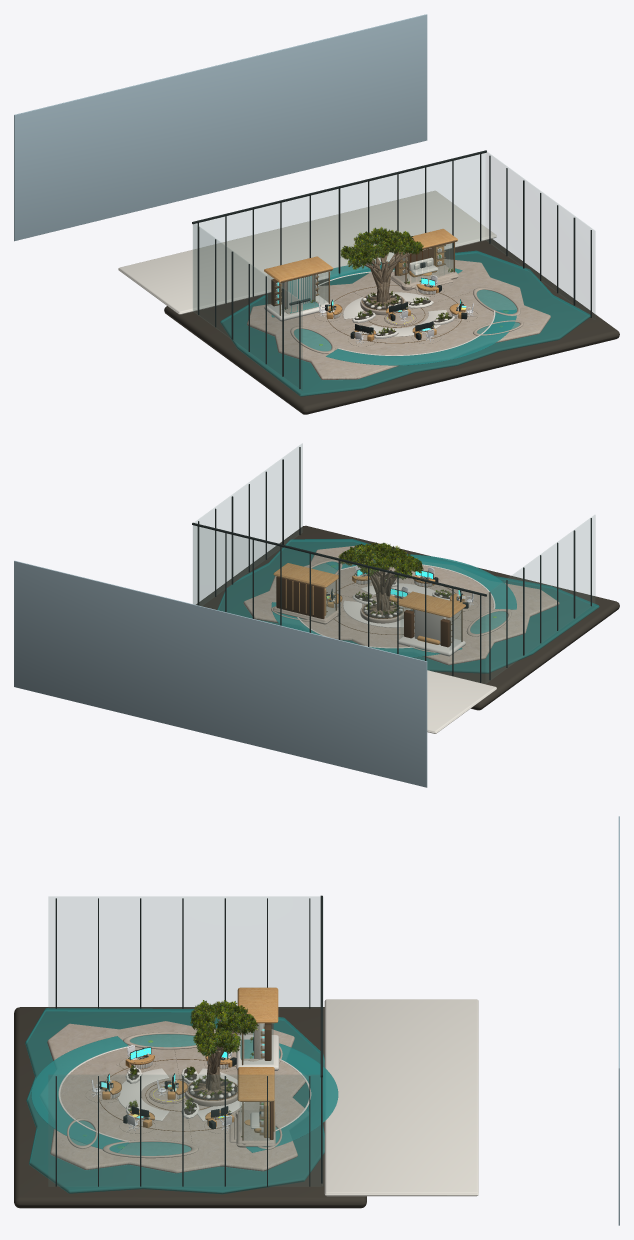
The model's file is garden-office-v9.glb.
3 renders of one model, top to bottom at view 1: azimuth 30°, elevation 25°; view 2: azimuth 150°, elevation 25°; view 3: azimuth 270°, elevation 25°, orthographic. The views are drawn at different scales.
Parts seen in each view (by area): view 1: V9 temporary urban horizon, RuntimeBatch_Low_iron_architectural_glass, RuntimeBatch_Limestone_joint, RuntimeBatch_V8_honed_limestone, RuntimeBatch_Limestone_warm, RuntimeBatch_Shallow_turquoise_water, RuntimeBatch_Graphite, RuntimeBatch_Ficus_cluster_atlas, RuntimeBatch_Quarter_sawn_oak, RuntimeBatch_Ivory_fluted_stone, RuntimeBatch_Champagne_bronze, RuntimeBatch_Old_ficus_bark (+1 smaller); view 2: V9 temporary urban horizon, RuntimeBatch_Low_iron_architectural_glass, RuntimeBatch_Limestone_joint, RuntimeBatch_Limestone_warm, RuntimeBatch_Shallow_turquoise_water, RuntimeBatch_Graphite, RuntimeBatch_V8_honed_limestone, RuntimeBatch_Quarter_sawn_oak, RuntimeBatch_Dark_oak, RuntimeBatch_Ficus_cluster_atlas, RuntimeBatch_Ivory_fluted_stone, RuntimeBatch_Old_ficus_bark; view 3: RuntimeBatch_Low_iron_architectural_glass, RuntimeBatch_V8_honed_limestone, RuntimeBatch_Limestone_joint, RuntimeBatch_Limestone_warm, RuntimeBatch_Shallow_turquoise_water, RuntimeBatch_Graphite, RuntimeBatch_Quarter_sawn_oak, RuntimeBatch_Ficus_cluster_atlas, RuntimeBatch_Champagne_bronze, RuntimeBatch_Old_ficus_bark, V9 temporary urban horizon, RuntimeBatch_Ivory_fluted_stone.
Part boxes in pixels (x1,y1,x2,y2): V9 temporary urban horizon: (14,14,427,241); RuntimeBatch_Low_iron_architectural_glass: (193,152,595,390); RuntimeBatch_Limestone_joint: (164,239,619,414); RuntimeBatch_V8_honed_limestone: (118,190,496,355); RuntimeBatch_Limestone_warm: (247,259,550,379); RuntimeBatch_Shallow_turquoise_water: (220,250,590,396); RuntimeBatch_Graphite: (192,150,591,388); RuntimeBatch_Ficus_cluster_atlas: (285,227,462,333); RuntimeBatch_Quarter_sawn_oak: (264,229,465,341); RuntimeBatch_Ivory_fluted_stone: (275,248,459,337); RuntimeBatch_Champagne_bronze: (274,240,461,343); RuntimeBatch_Old_ficus_bark: (364,233,411,308); V9 temporary urban horizon: (14,560,427,787); RuntimeBatch_Low_iron_architectural_glass: (193,443,595,683); RuntimeBatch_Limestone_joint: (196,525,619,710); RuntimeBatch_Limestone_warm: (243,546,559,665); RuntimeBatch_Shallow_turquoise_water: (217,539,599,673); RuntimeBatch_Graphite: (192,447,591,682); RuntimeBatch_V8_honed_limestone: (297,564,496,733); RuntimeBatch_Quarter_sawn_oak: (273,563,465,644); RuntimeBatch_Dark_oak: (276,576,450,647); RuntimeBatch_Ficus_cluster_atlas: (338,542,451,614); RuntimeBatch_Ivory_fluted_stone: (333,574,465,644); RuntimeBatch_Old_ficus_bark: (355,558,408,615); RuntimeBatch_Low_iron_architectural_glass: (48,896,323,1186); RuntimeBatch_V8_honed_limestone: (58,999,478,1196); RuntimeBatch_Limestone_joint: (14,1007,366,1208); RuntimeBatch_Limestone_warm: (47,1021,305,1173); RuntimeBatch_Shallow_turquoise_water: (25,1008,338,1194); RuntimeBatch_Graphite: (55,895,322,1186); RuntimeBatch_Quarter_sawn_oak: (102,987,278,1137); RuntimeBatch_Ficus_cluster_atlas: (106,1000,258,1136); RuntimeBatch_Champagne_bronze: (99,990,264,1140); RuntimeBatch_Old_ficus_bark: (193,1018,250,1098); V9 temporary urban horizon: (618,816,619,1225); RuntimeBatch_Ivory_fluted_stone: (110,1023,264,1132).
Bounding box in the file's own units: 48 × 15.18 × 48.76.
24 materials, 4 textured.
